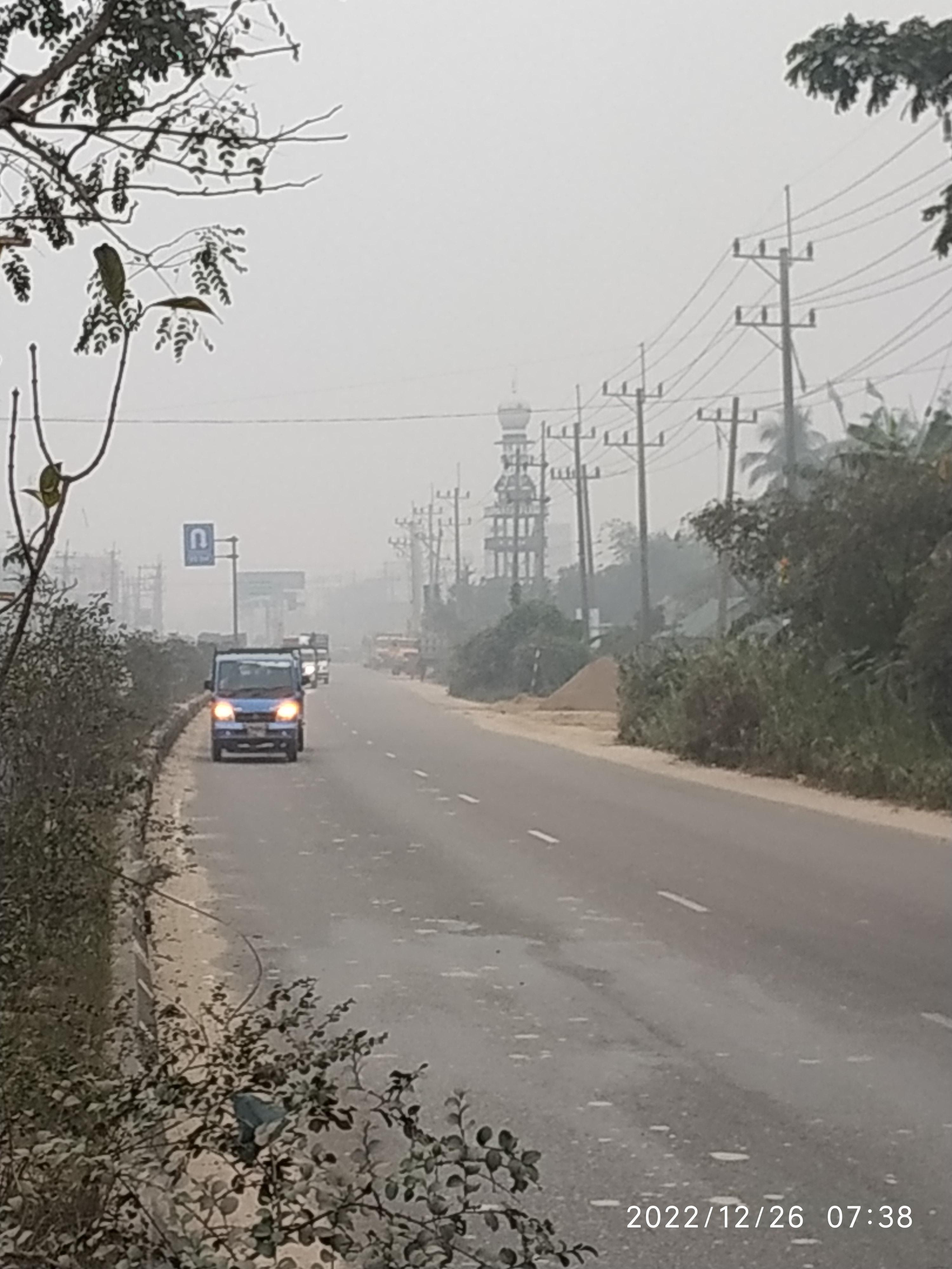Truck: (193, 637, 328, 771)
